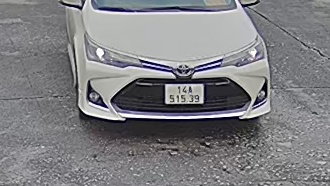vehicle plate: (159, 80, 204, 106)
